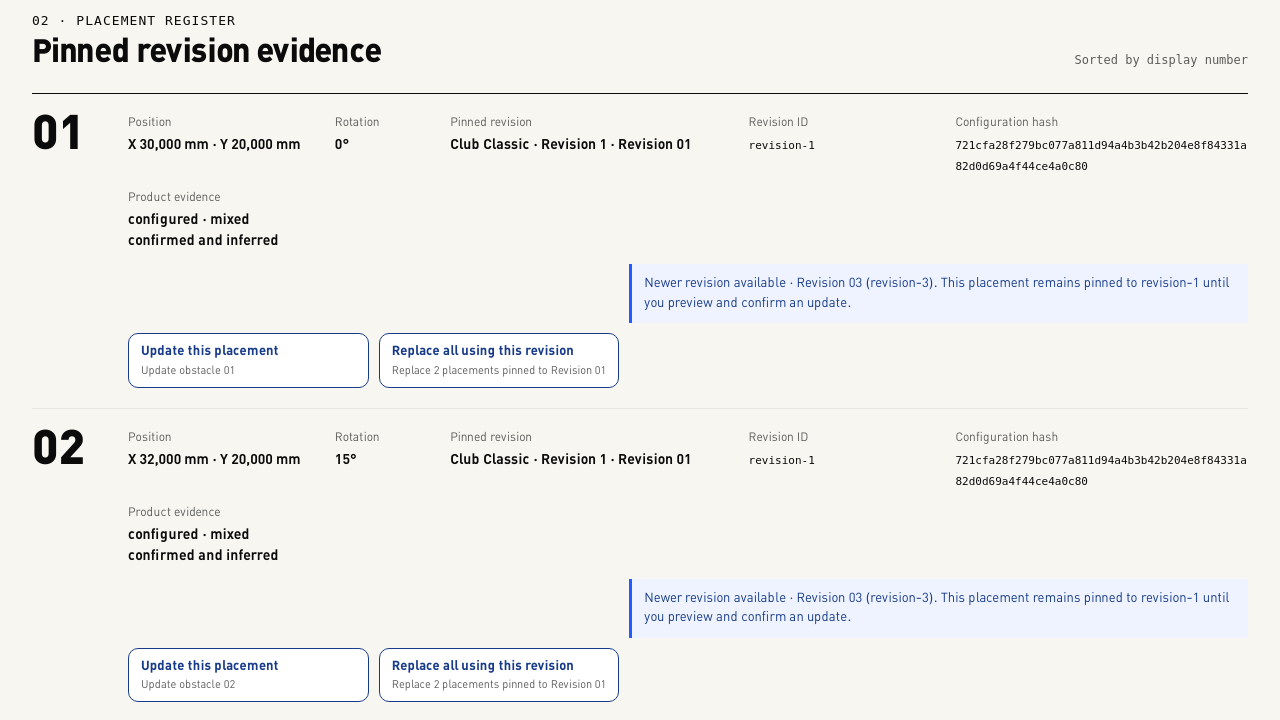
Scenario: Phase 1E Course Review Sheet › previews exact evidence and Cancel leaves every stored input unchanged
(page scrolled)
Click the button with aria-label "Update this placement, obstacle 01" at (248, 360), box x1=128 y1=333 x2=369 y2=388
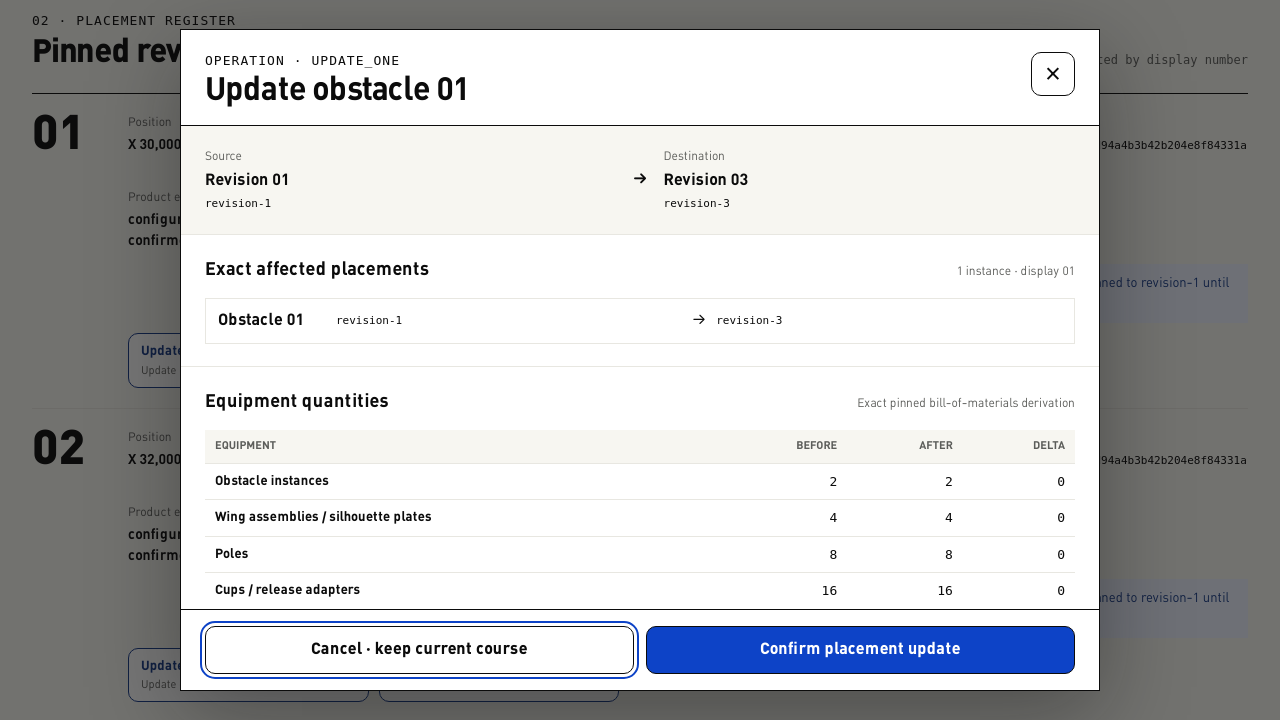
Check: the dialog "Update obstacle 01" shows "Operation · update_one"
Check: the dialog "Update obstacle 01" shows "revision-1", box x1=205 y1=197 x2=271 y2=210
Check: the dialog "Update obstacle 01" shows "revision-3", box x1=664 y1=197 x2=730 y2=210
Click the button "Cancel · keep current course" at (420, 650), box x1=205 y1=626 x2=634 y2=674
(page scrolled)
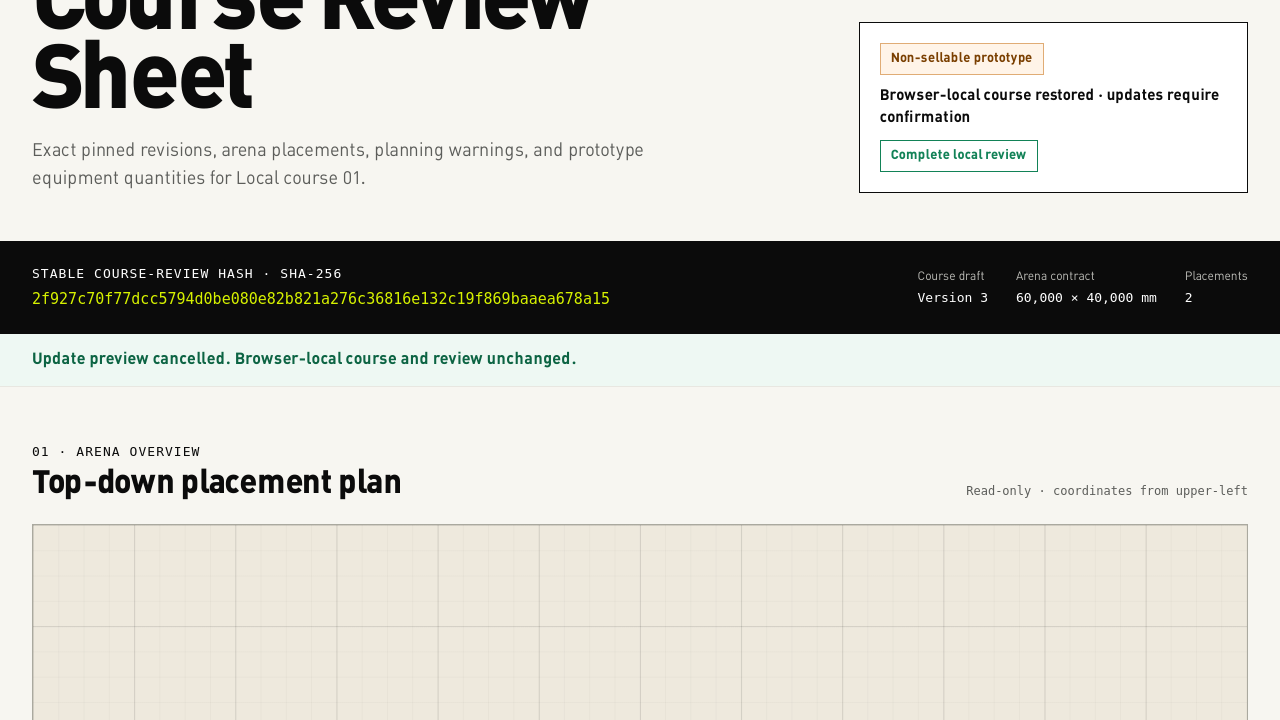
Check: the dialog is gone
Check: the text "Update preview cancelled. Browser-local course and review unchanged." is shown, box x1=0 y1=334 x2=1279 y2=387
